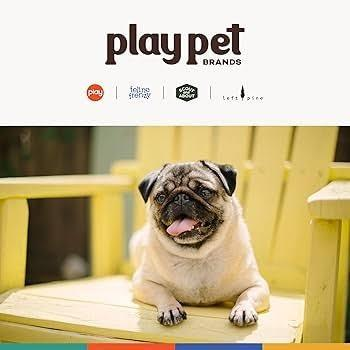adult_dog: (129, 160, 272, 327)
